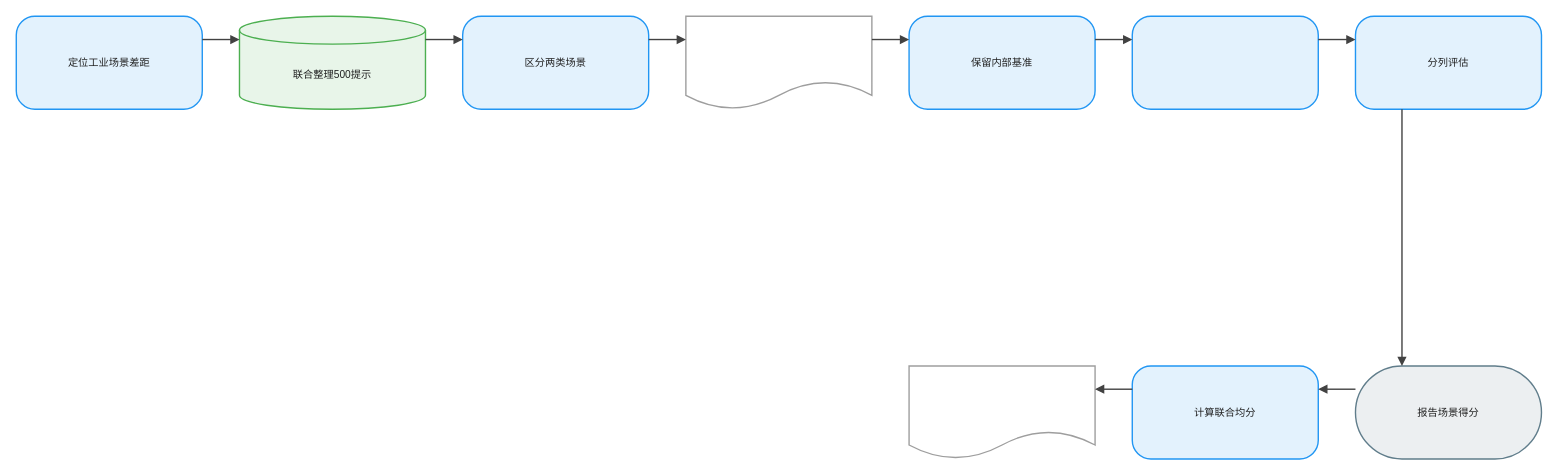
This 1559x476 diagram has some shape labels left out. The shapes that lost their labels are listed below. From the top down, each one's centre as x and y in pixels, then its label:
At pixel 778 62: "设计真实场景".
At pixel 1225 62: "生成提示图像".
At pixel 1001 412: "评分协议未披露".
